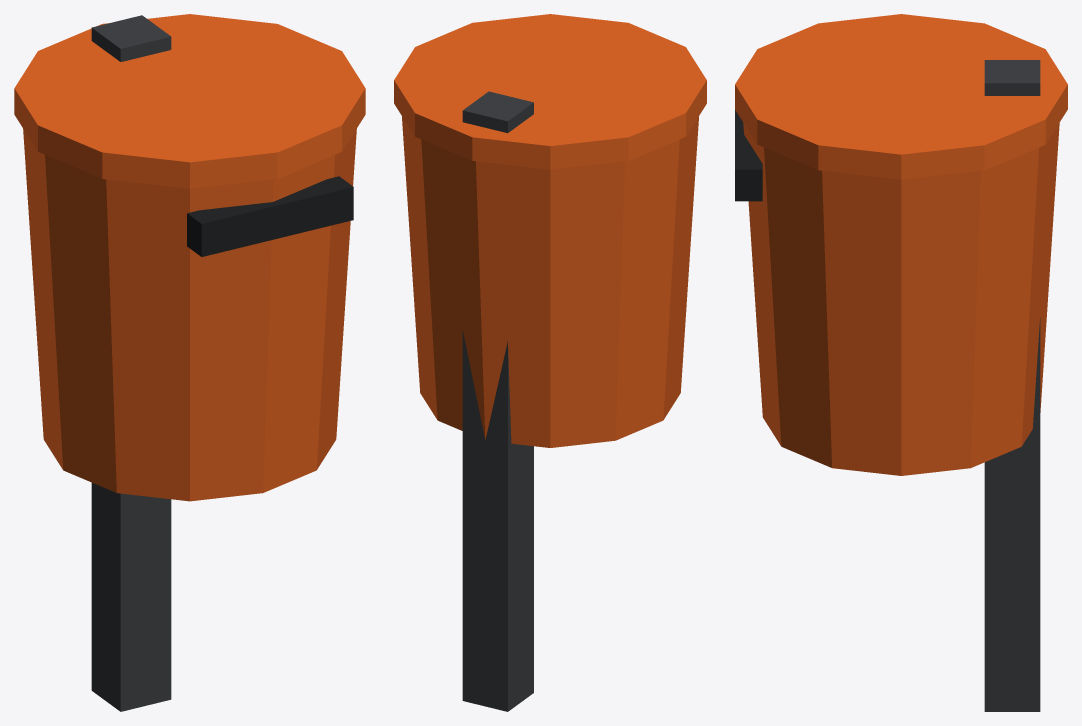
The model's file is getkong-hhmuell.glb.
3 views of the same model, side by side, from view 1: azimuth 30°, elevation 25°; view 2: azimuth 150°, elevation 25°; view 3: azimuth 270°, elevation 25° (orthographic). The views are drawn at different scales.
Visible parts, largest first — view 1: muell; view 2: muell; view 3: muell.
Part boxes in pixels (x1,y1,x2,y2): muell: [14, 14, 365, 711]; muell: [394, 14, 706, 711]; muell: [735, 14, 1067, 711].
Bounding box in the file's own units: 0.48 × 1 × 0.48.
